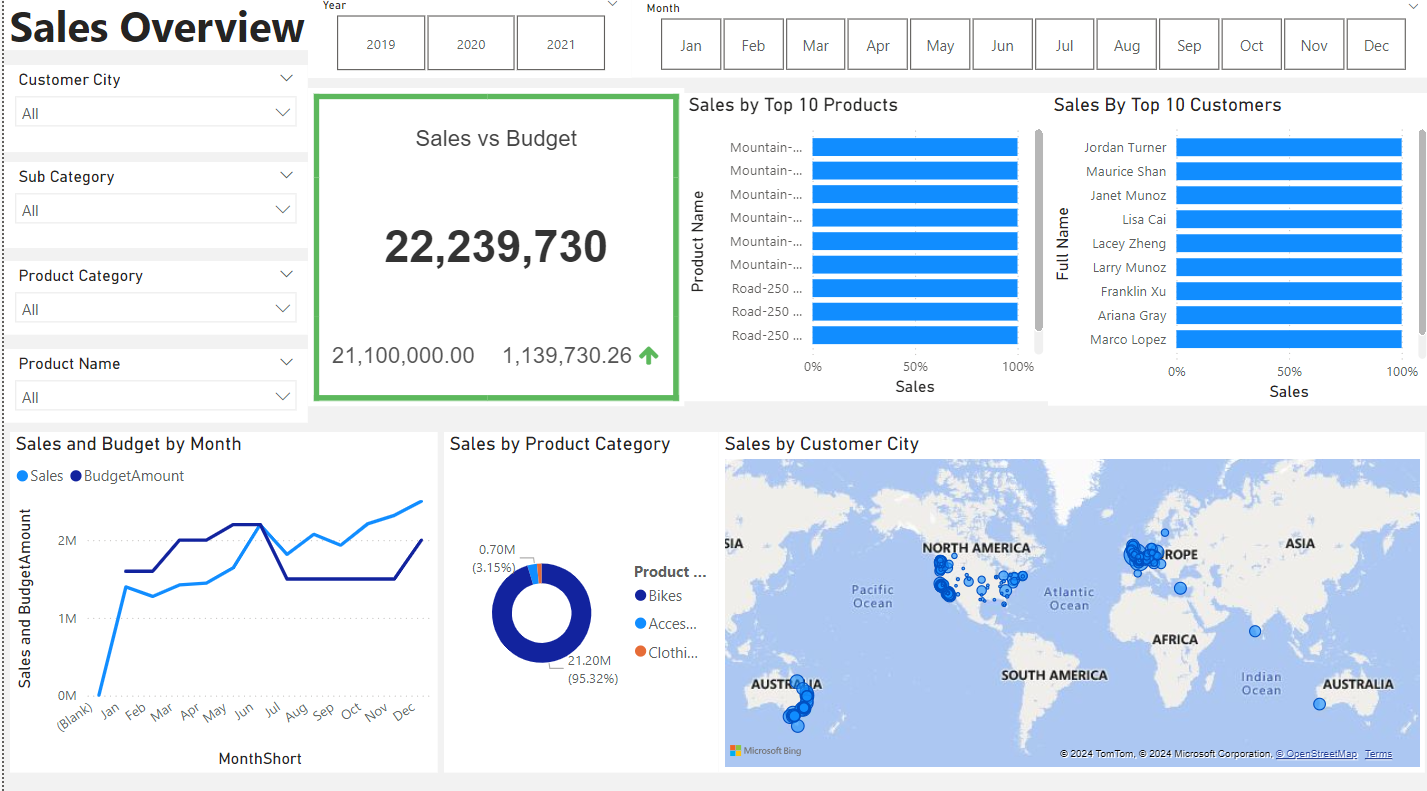

Layout of this report page (visuals, bound fields, positions):
{"tool":"powerbi","page":{"name":"Sales Overview","canvas":[1280,720],"ordinal":0},"visuals":[{"type":"textbox","box":[0,0,286.6,51.9],"z":0},{"type":"slicer","fields":{"Values":["DIM_Customers.Customer City"]},"box":[0,65.4,272.2,77.9],"z":1},{"type":"slicer","fields":{"Values":["DIM_Products.Sub Category"]},"box":[0,152.2,272.2,77],"z":2},{"type":"slicer","fields":{"Values":["DIM_Products.Product Category"]},"box":[0,240.9,272.2,66.3],"z":3},{"type":"slicer","fields":{"Values":["DIM_Products.Product Name"]},"box":[0,319.7,272.2,66.3],"z":4},{"type":"slicer","fields":{"Values":["DIM_Calendar.Year"]},"box":[272.2,0,290.1,77],"z":5},{"type":"slicer","fields":{"Values":["DIM_Calendar.MonthShort"]},"box":[562.4,2.7,717.3,74.3],"z":6},{"type":"BBED0A4D4D8D44CE93CF2DAFADEE466C","title":"Sales VS Budget","fields":{"actual":["FACT_InternetSales.Sales"],"target1":["Fact Budget.BudgetAmount"],"target2":["Fact Budget.Sales - Budget"]},"box":[272.1,85.7,336.6,285.2],"z":7},{"type":"donutChart","fields":{"Category":["DIM_Products.Product Category"],"Y":["FACT_InternetSales.Sales"]},"box":[394.1,394.1,245.9,305.4],"z":8},{"type":"lineChart","title":"Sales and Budget by Month","fields":{"Y":["FACT_InternetSales.Sales","Fact Budget.BudgetAmount"],"Category":["DIM_Calendar.MonthShort"]},"box":[5,394.1,383,305.4],"z":9},{"type":"hundredPercentStackedBarChart","title":"Sales By Top 10 Customers","fields":{"Y":["FACT_InternetSales.Sales"],"Category":["DIM_Customers.Full Name"]},"box":[935.3,90.7,344.7,280.2],"z":10},{"type":"hundredPercentStackedBarChart","title":"Sales by Top 10 Products","fields":{"Y":["FACT_InternetSales.Sales"],"Category":["DIM_Products.Product Name"]},"box":[607.7,90.7,327.6,276.2],"z":12},{"type":"map","fields":{"Category":["DIM_Customers.Customer City"],"Size":["FACT_InternetSales.Sales"]},"box":[640,394.1,632.9,305.4],"z":13}]}

Visuals, with their boxes in screenshot pixels (x1, y1, x2, y2), scaled from the page's 1280x720 canvas onto the 1427x791 screenshot:
textbox: box(0, 0, 320, 57)
slicer - DIM_Customers.Customer City: box(0, 72, 303, 157)
slicer - DIM_Products.Sub Category: box(0, 167, 303, 252)
slicer - DIM_Products.Product Category: box(0, 265, 303, 337)
slicer - DIM_Products.Product Name: box(0, 351, 303, 424)
slicer - DIM_Calendar.Year: box(303, 0, 627, 85)
slicer - DIM_Calendar.MonthShort: box(627, 3, 1426, 85)
"Sales VS Budget" BBED0A4D4D8D44CE93CF2DAFADEE466C: box(303, 94, 679, 407)
donutChart - DIM_Products.Product Category x FACT_InternetSales.Sales: box(439, 433, 714, 768)
"Sales and Budget by Month" lineChart: box(6, 433, 433, 768)
"Sales By Top 10 Customers" hundredPercentStackedBarChart: box(1043, 100, 1426, 407)
"Sales by Top 10 Products" hundredPercentStackedBarChart: box(677, 100, 1043, 403)
map - DIM_Customers.Customer City x FACT_InternetSales.Sales: box(714, 433, 1419, 768)
